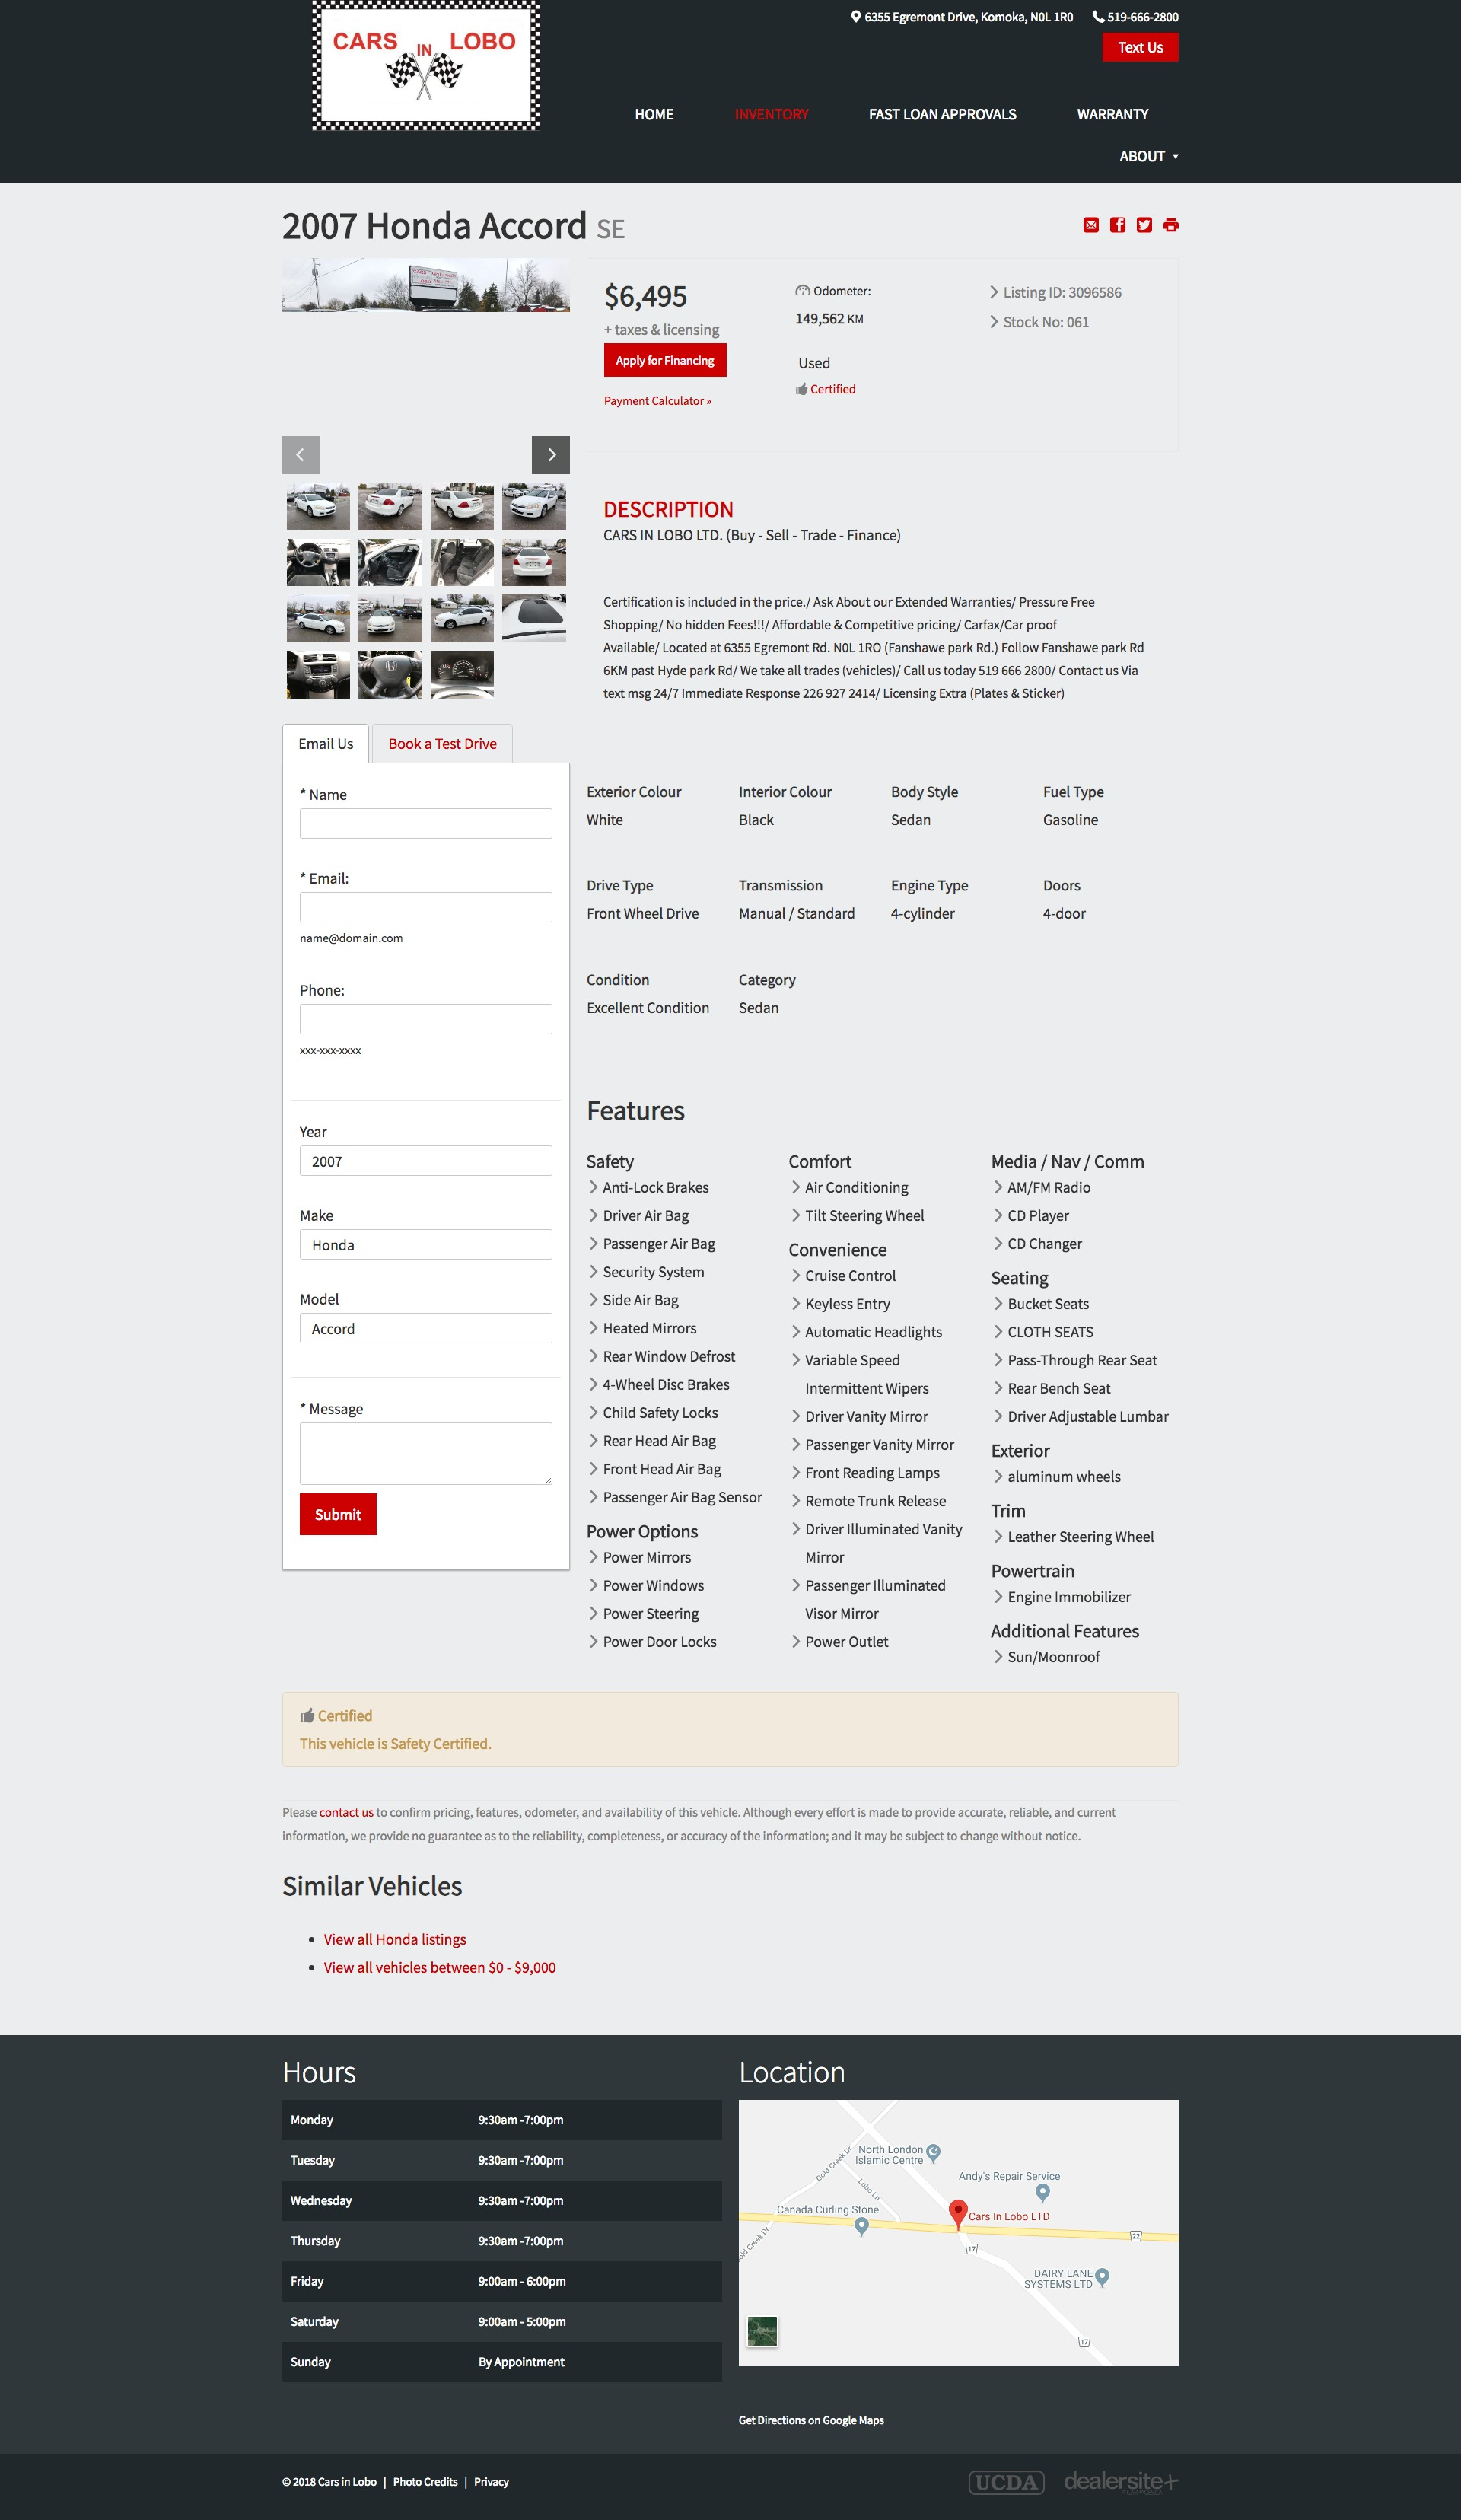car: (532, 435, 572, 477)
